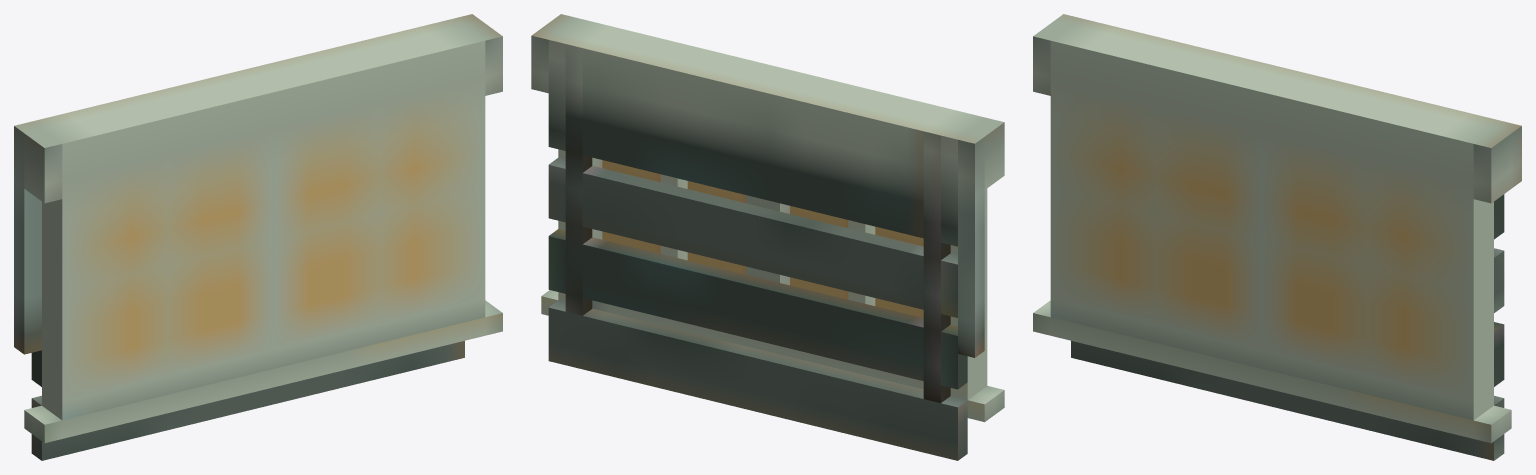
The model's file is BlindsDarkBlue_00.obj.
3 views of the same model, side by side, from view 1: azimuth 30°, elevation 25°; view 2: azimuth 150°, elevation 25°; view 3: azimuth 330°, elevation 25° (orthographic). The views are drawn at different scales.
Parts seen in each view (by area): view 1: BlindsDarkBlue_00; view 2: BlindsDarkBlue_00; view 3: BlindsDarkBlue_00.
Boxes of the visible parts, box(x1,y1,x2,y2) form: BlindsDarkBlue_00: box(14, 14, 502, 460); BlindsDarkBlue_00: box(531, 14, 1004, 460); BlindsDarkBlue_00: box(1033, 14, 1521, 460).
Size of the model in its own units: 1.3 by 0.9 by 0.15.
